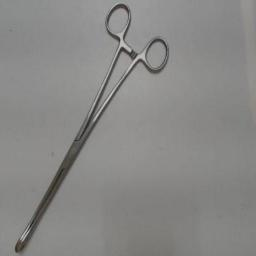Sponge Forceps: (10, 2, 172, 254)
